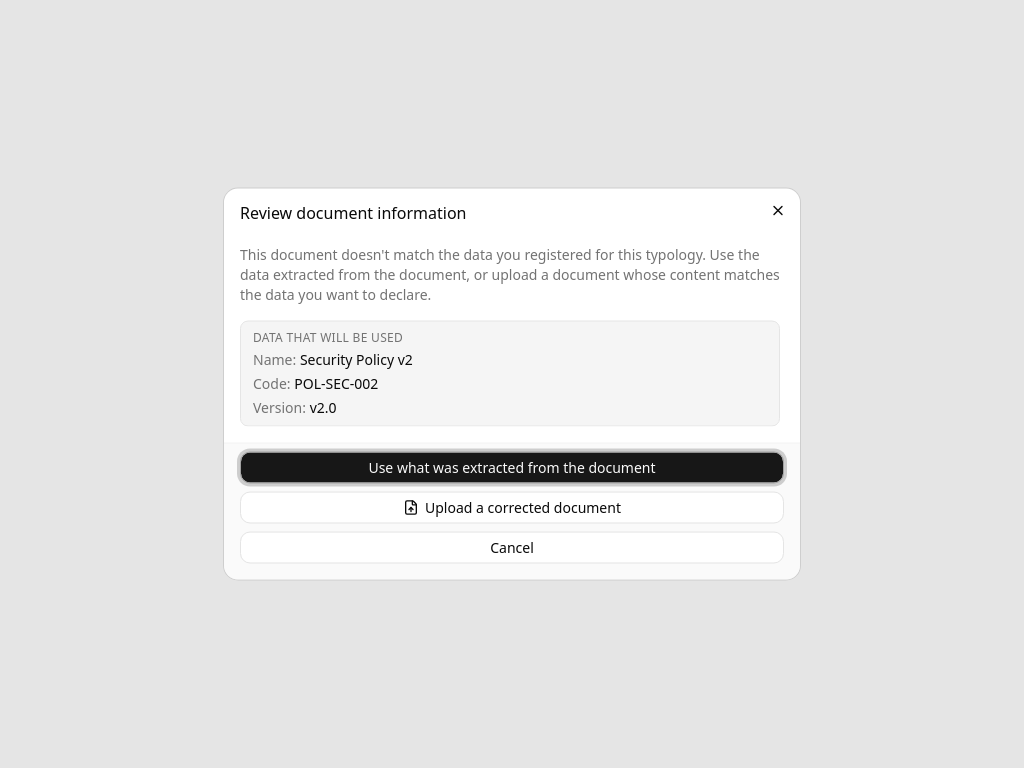
Test: ResolveExtractionDialog › closes the resolve dialog and opens the upload-document dialog (not the edit/new-version dialog) to upload a corrected document
Expected: the heading "Review document information" is shown, [240,202,466,224]
Click the button "Upload a corrected document". click: (512, 508)
box: [240,492,784,524]
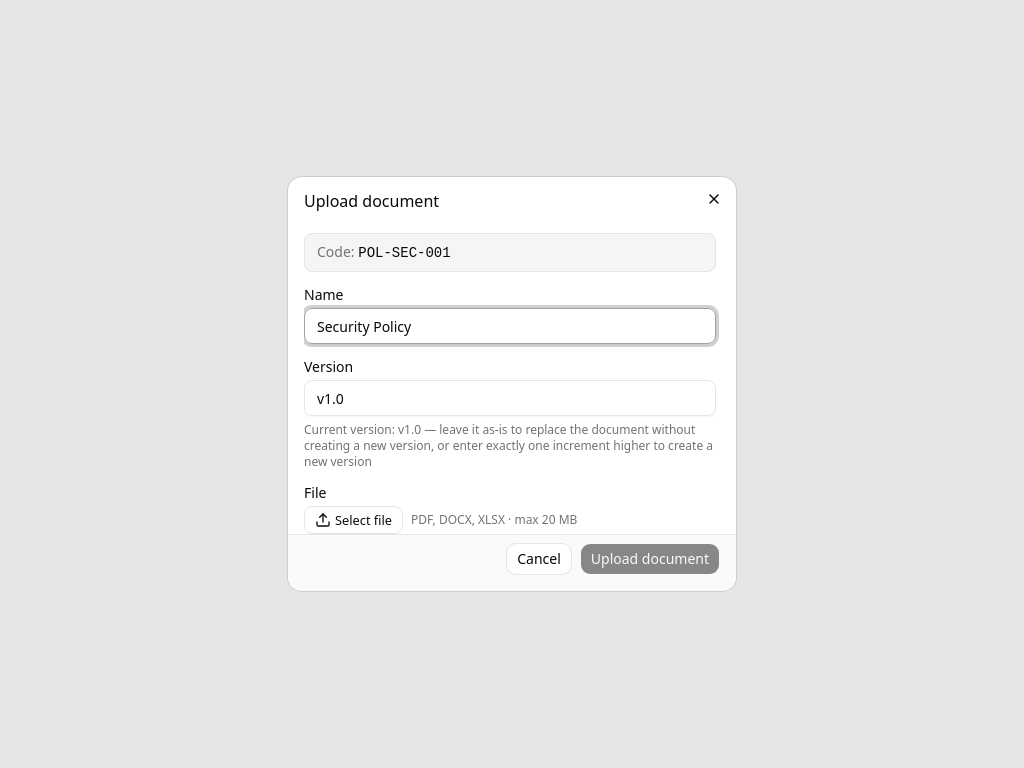
Now the heading "Review document information" is gone
Now the heading "Upload document" is shown, box [304,190,439,212]
